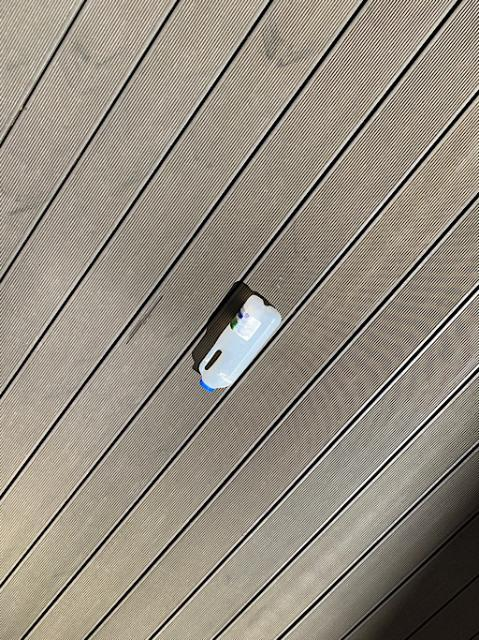plastic: (198, 294, 280, 390)
